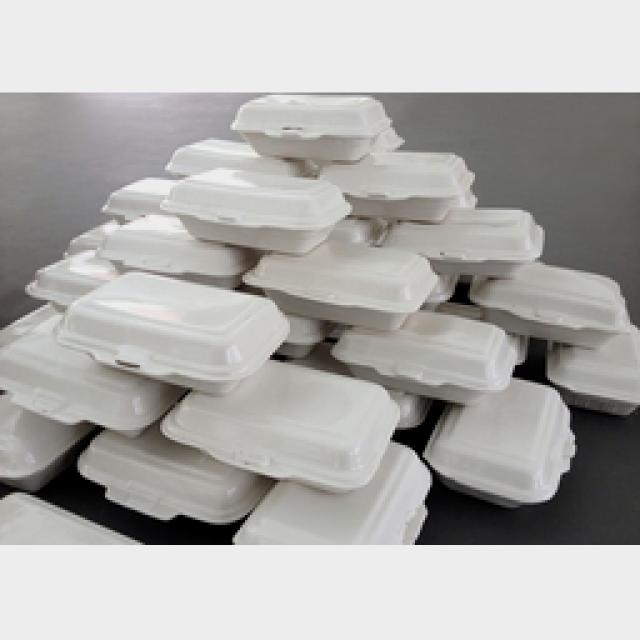inorganic: (166, 360, 398, 492), (3, 317, 180, 434), (237, 445, 428, 544), (426, 381, 573, 509), (245, 241, 438, 332), (166, 167, 350, 255), (276, 339, 434, 429), (232, 94, 397, 164), (378, 209, 542, 278), (319, 151, 470, 221), (547, 326, 640, 416)
